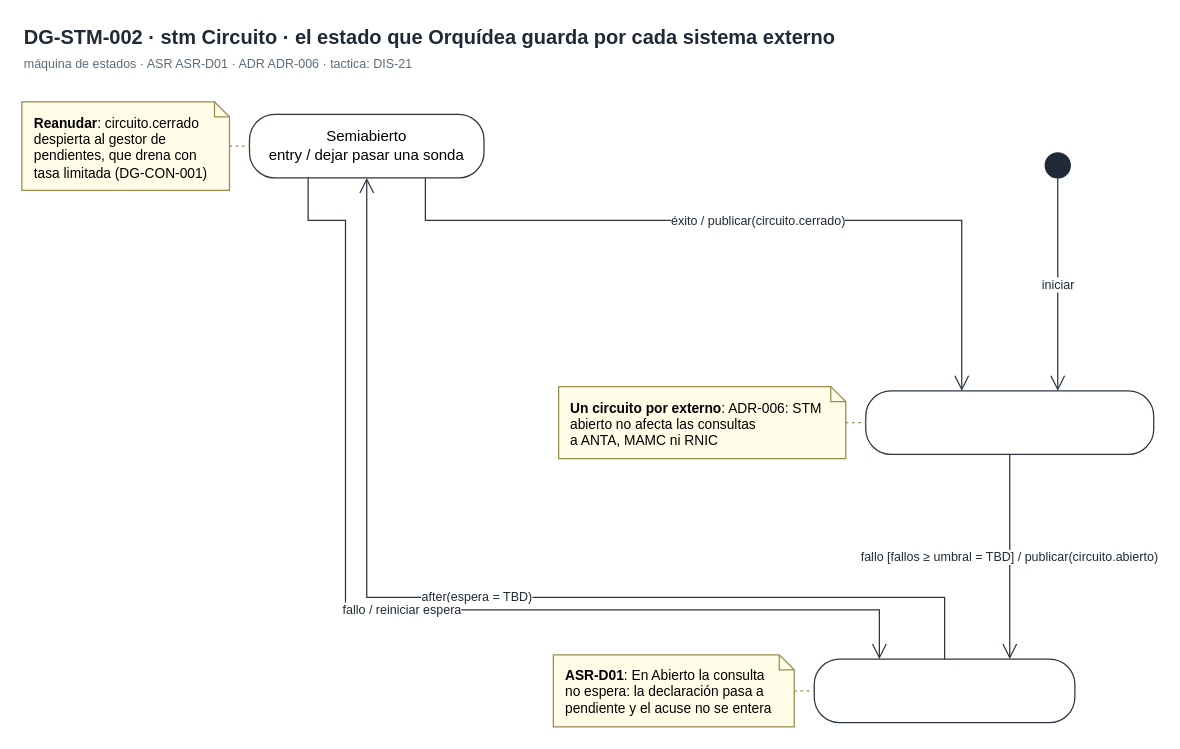
This 1180x749 diagram has some shape labels left out. Here are the shapes that lost their labels. From the top down, the centre of each, then its label:
(1009,422): Cerrado llamada / esperar hasta T_call = TBD
(944,690): Abierto llamada / noDisponible inmediato
